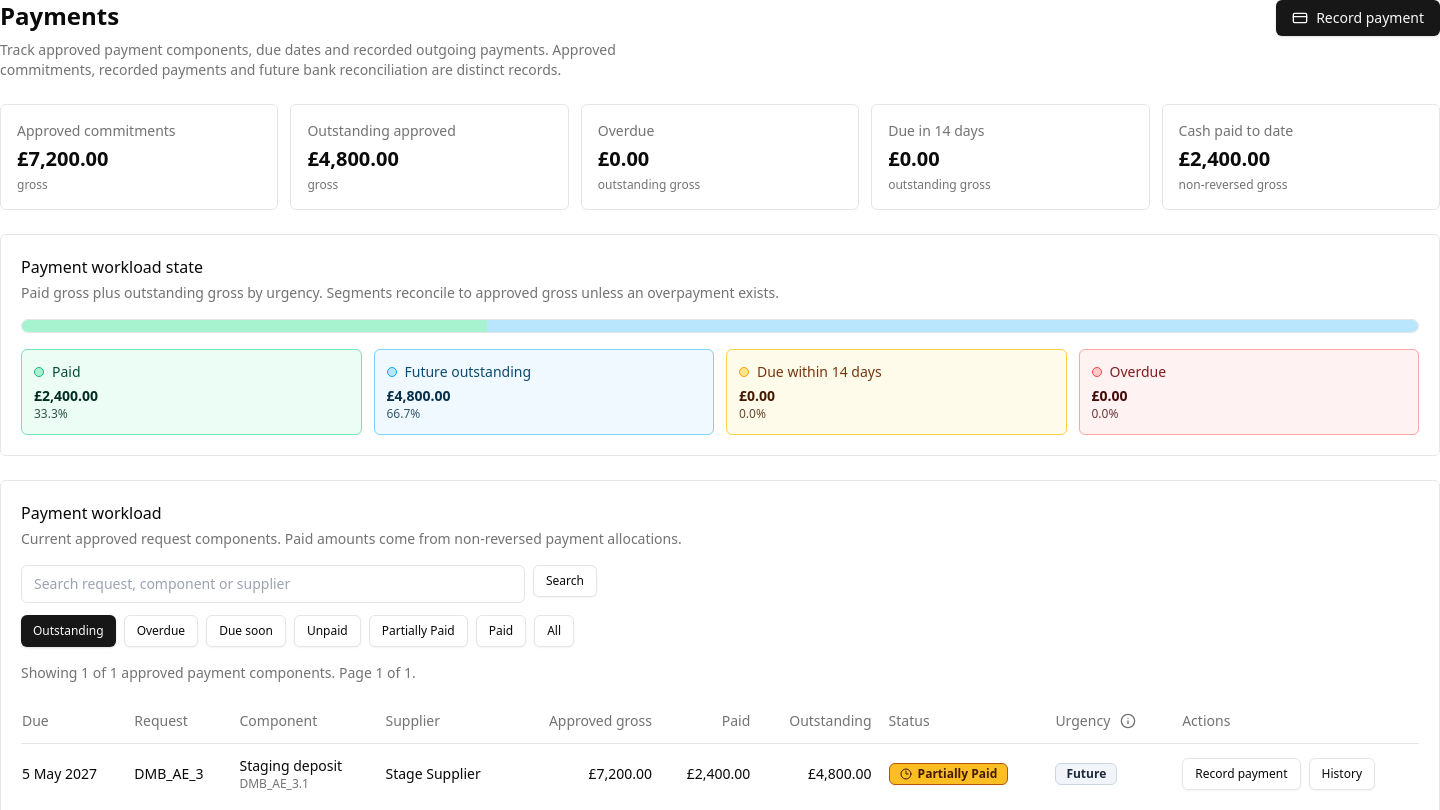
Test case: Stage 7 payment panels › renders urgency help definitions in a modal with the 14-day window
The image size is (1440, 810).
Click the button named "Payment urgency definitions" at (1128, 721), box [1114,707,1142,735]
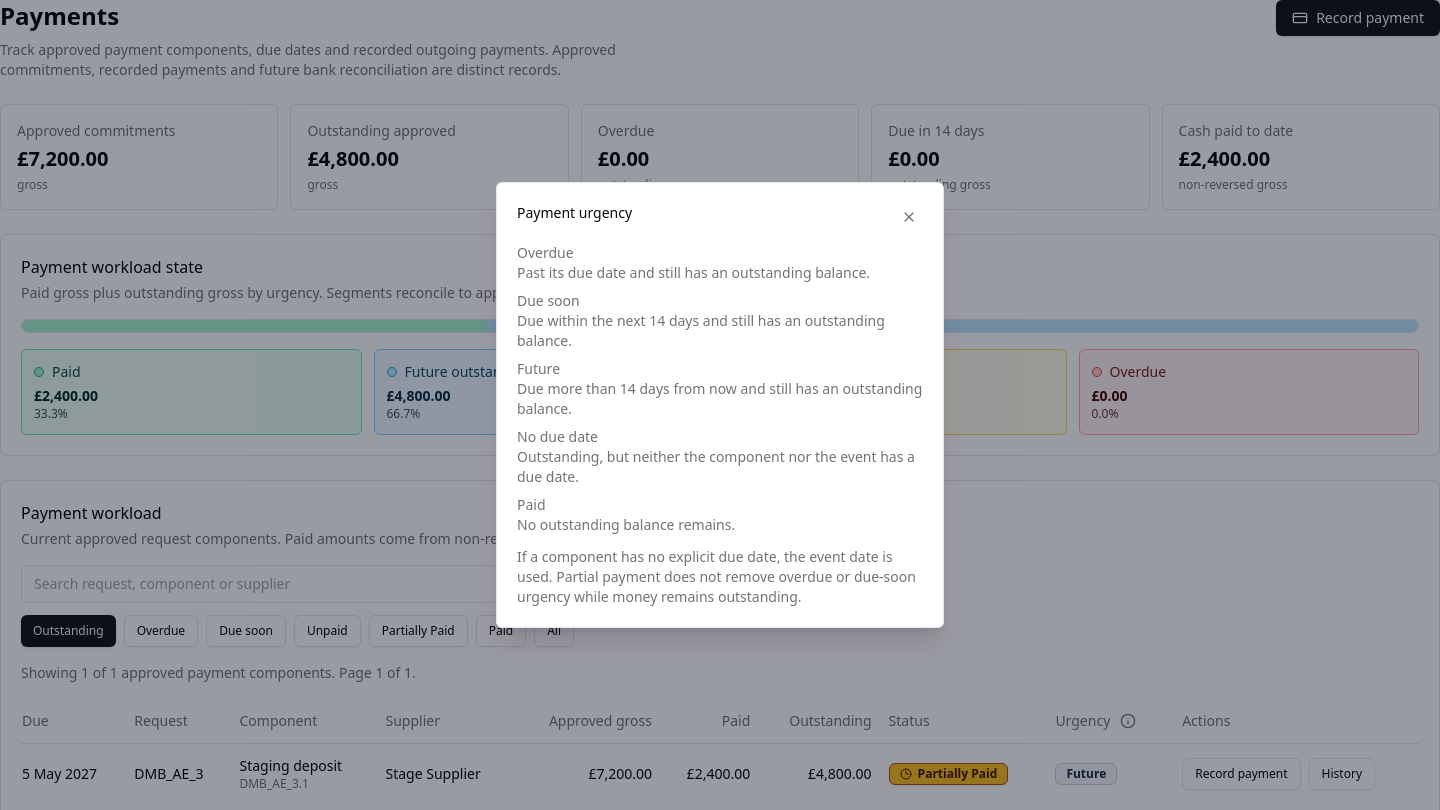
Check: the dialog "Payment urgency" is shown, box [496,182,944,628]
Check: the heading "Payment urgency" is shown, box [517,203,632,223]
Check: the text "Due within the next 14 days and still has an outstanding balance." is shown, box [517,311,923,351]
